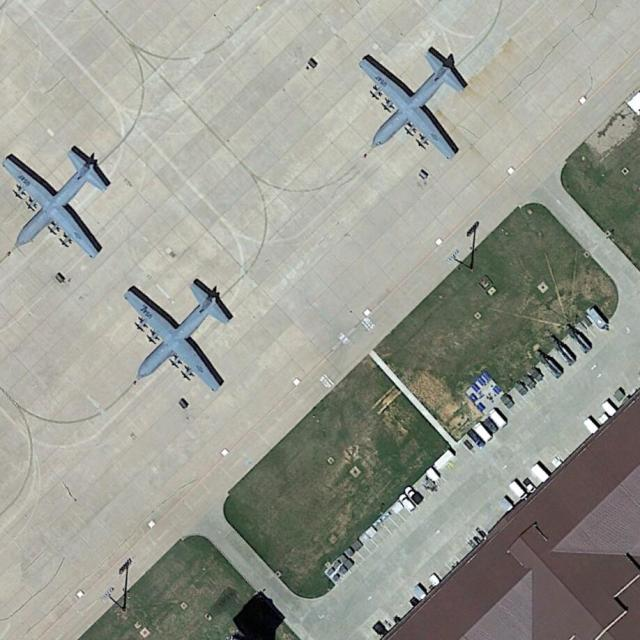fighter jet: (350, 44, 474, 166), (120, 274, 236, 388), (5, 132, 110, 252)
